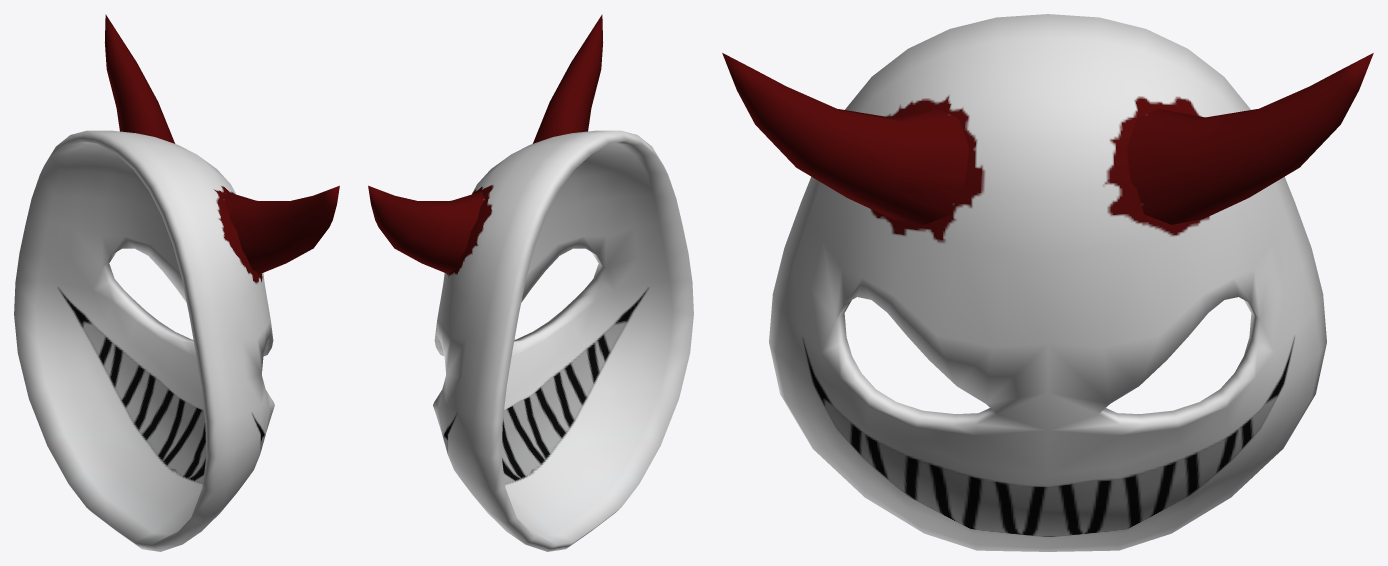
The model's file is HatredEnemyMask.fbx.
3 views of the same model, side by side, from view 1: azimuth 30°, elevation 25°; view 2: azimuth 150°, elevation 25°; view 3: azimuth 270°, elevation 25° (orthographic). The views are drawn at different scales.
Parts seen in each view (by area): view 1: HatredMask; view 2: HatredMask; view 3: HatredMask.
Boxes of the visible parts, box(x1,y1,x2,y2) form: HatredMask: box(14, 14, 339, 551); HatredMask: box(368, 14, 693, 551); HatredMask: box(722, 14, 1373, 551).
Bounding box in the file's own units: 23.78 × 72.59 × 69.46.
